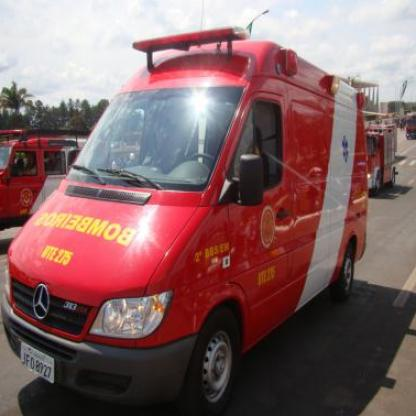truck: (6, 23, 365, 416)
